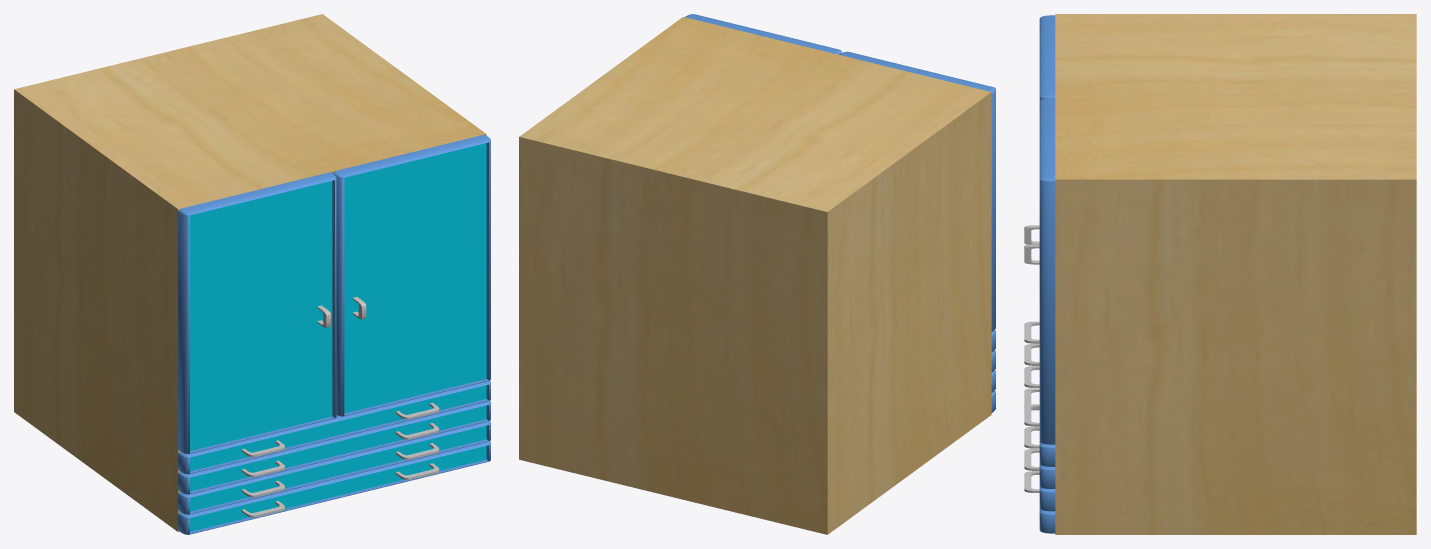
File: sh-lp-mobile-azzurro.glb
The picture shows the model from 3 angles, left to right: view 1: azimuth 30°, elevation 25°; view 2: azimuth 150°, elevation 25°; view 3: azimuth 270°, elevation 25°; orthographic projection. The views are drawn at different scales.
Visible parts, largest first — view 1: Box08_1, Box09_3, ChamferBox07_2, Line11_14; view 2: Box08_1, ChamferBox07_2; view 3: Box08_1, ChamferBox07_2, Line11_14.
Part boxes in pixels (box(x1,y1,x2,y2)): Box08_1: box(14, 14, 486, 531); Box09_3: box(190, 143, 486, 531); ChamferBox07_2: box(178, 135, 490, 534); Line11_14: box(241, 297, 439, 517); Box08_1: box(519, 17, 991, 534); ChamferBox07_2: box(685, 14, 995, 412); Box08_1: box(1055, 14, 1416, 534); ChamferBox07_2: box(1039, 15, 1055, 533); Line11_14: box(1024, 225, 1039, 492).
Bounding box in the file's own units: 1 × 1 × 1.
4 materials, 1 textured.
